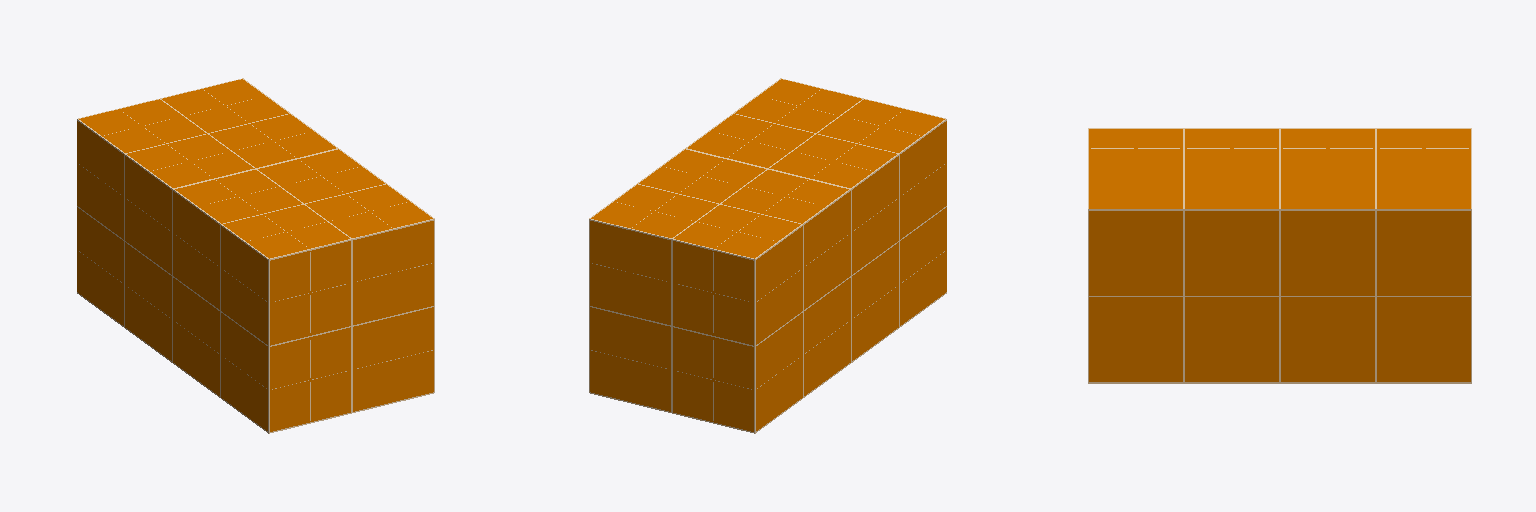
The picture shows the model from 3 angles: view 1: azimuth 30°, elevation 25°; view 2: azimuth 150°, elevation 25°; view 3: azimuth 270°, elevation 25°; orthographic projection.
Parts seen in each view (by area): view 1: Block_1x2x1_Cube.144; view 2: Block_1x2x1_Cube.144; view 3: Block_1x2x1_Cube.144.
Boxes of the visible parts, box(x1,y1,x2,y2) form: Block_1x2x1_Cube.144: box(77, 78, 434, 433); Block_1x2x1_Cube.144: box(589, 78, 946, 433); Block_1x2x1_Cube.144: box(1088, 128, 1471, 383).
Size of the model in its own units: 1 by 1 by 2.
1 materials, 1 textured.